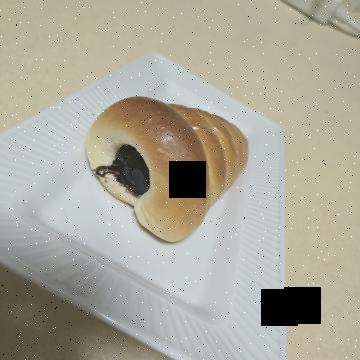cream horn: (84, 115, 267, 301)
